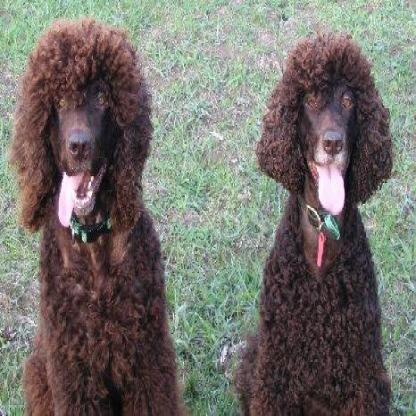Irish_water_spaniel: (7, 11, 186, 413), (230, 28, 390, 413)
